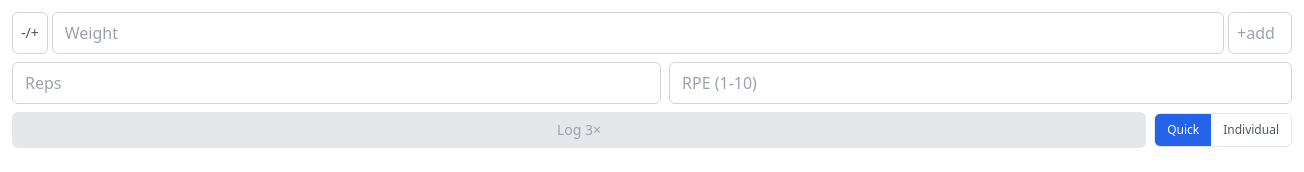
Test case: SetLogger › minus toggle › prepends - to empty input
Step 1. Click the button named "Toggle negative" → (30, 33), box [12,12,48,54]
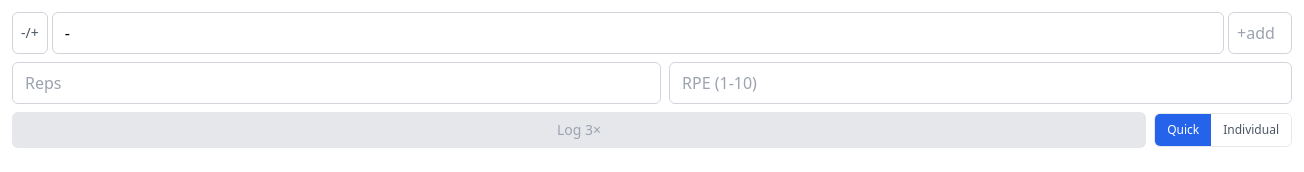
Expected: the field with placeholder "Weight" holds "-", [52,12,1224,54]
